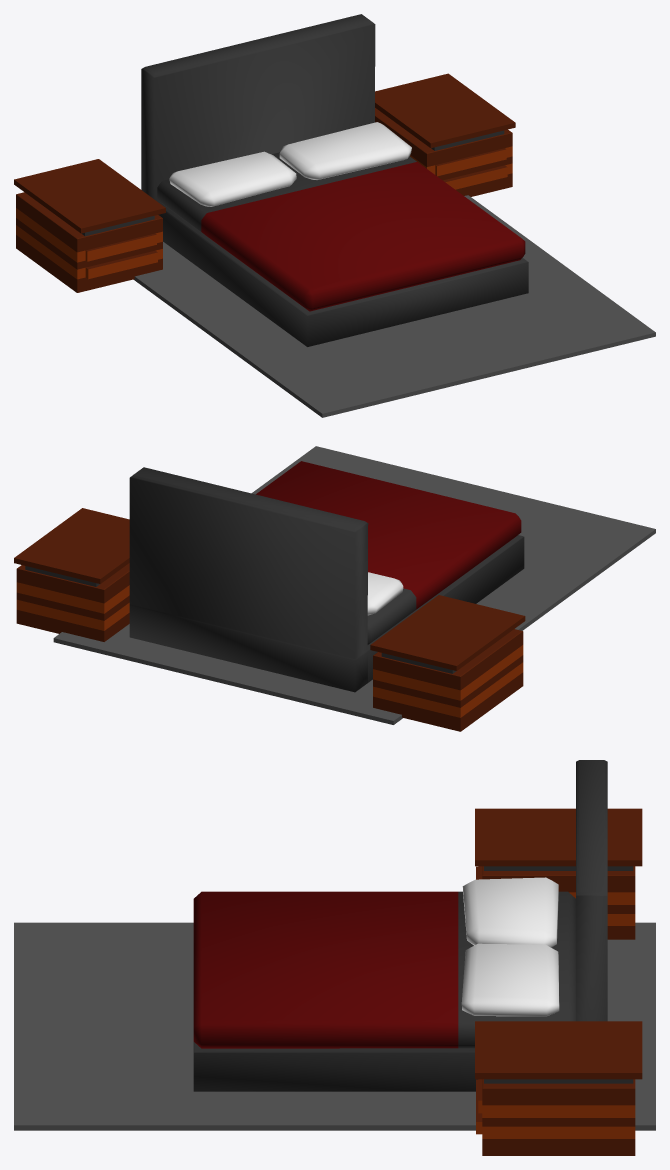
Rendered from Habitación.fbx.
3 views of the same model, one above another, from view 1: azimuth 30°, elevation 25°; view 2: azimuth 150°, elevation 25°; view 3: azimuth 270°, elevation 25° (orthographic). The views are drawn at different scales.
Parts seen in each view (by area): view 1: Cama, Alfombra, Cajón.001, Cajón; view 2: Cama, Alfombra, Cajón.001, Cajón; view 3: Cama, Alfombra, Cajón, Cajón.001.
Boxes of the visible parts, x1=… form: Cama: x1=141, y1=14, x2=528, y2=346; Alfombra: x1=133, y1=195, x2=655, y2=417; Cajón.001: x1=14, y1=159, x2=165, y2=292; Cajón: x1=375, y1=73, x2=515, y2=196; Cama: x1=129, y1=461, x2=524, y2=692; Alfombra: x1=53, y1=446, x2=655, y2=724; Cajón.001: x1=370, y1=595, x2=525, y2=731; Cajón: x1=14, y1=508, x2=129, y2=641; Cama: x1=193, y1=760, x2=607, y2=1091; Alfombra: x1=14, y1=922, x2=655, y2=1130; Cajón: x1=475, y1=1021, x2=642, y2=1155; Cajón.001: x1=475, y1=808, x2=642, y2=939.
Size of the model in its own units: 3363 by 1205 by 3443.
